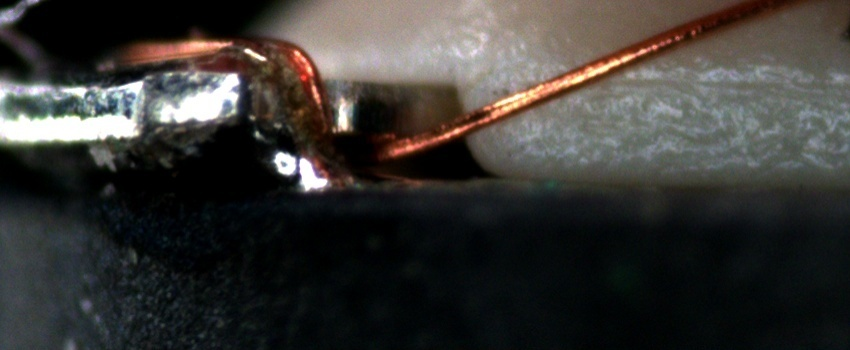DL: (602, 50, 850, 114)
TE: (126, 33, 338, 146)
